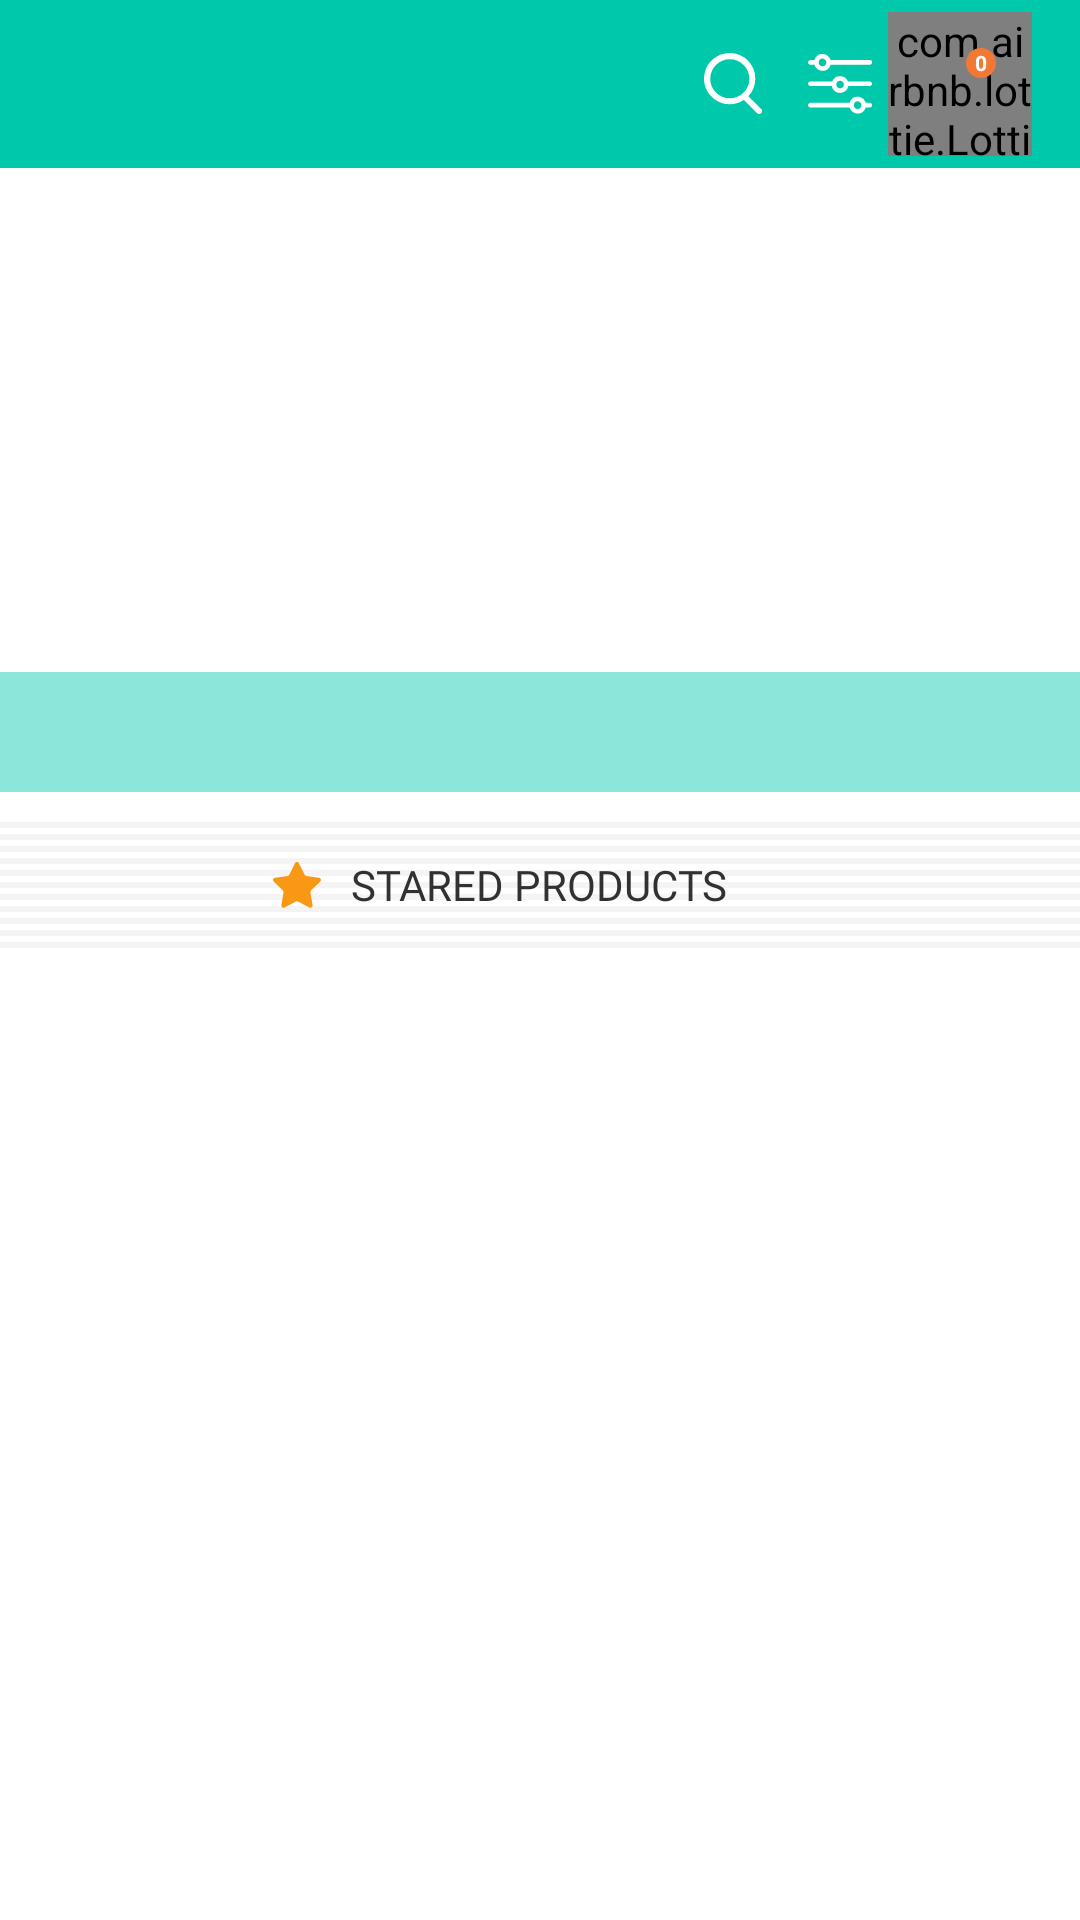

Where icons sit on this 1080px×1920px app screen, as (left=x1, top=y1, right=x2, bottom=y2):
filter search: (left=808, top=54, right=872, bottom=114)
search: (left=704, top=53, right=762, bottom=114)
